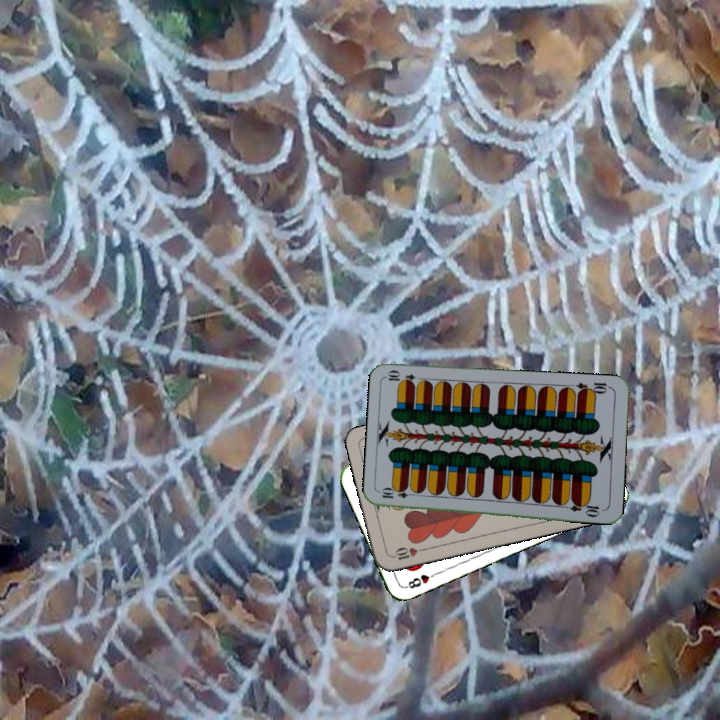E10: (573, 378, 613, 397), (378, 486, 418, 501)
H10: (387, 543, 428, 563)
H8: (402, 568, 440, 591)
